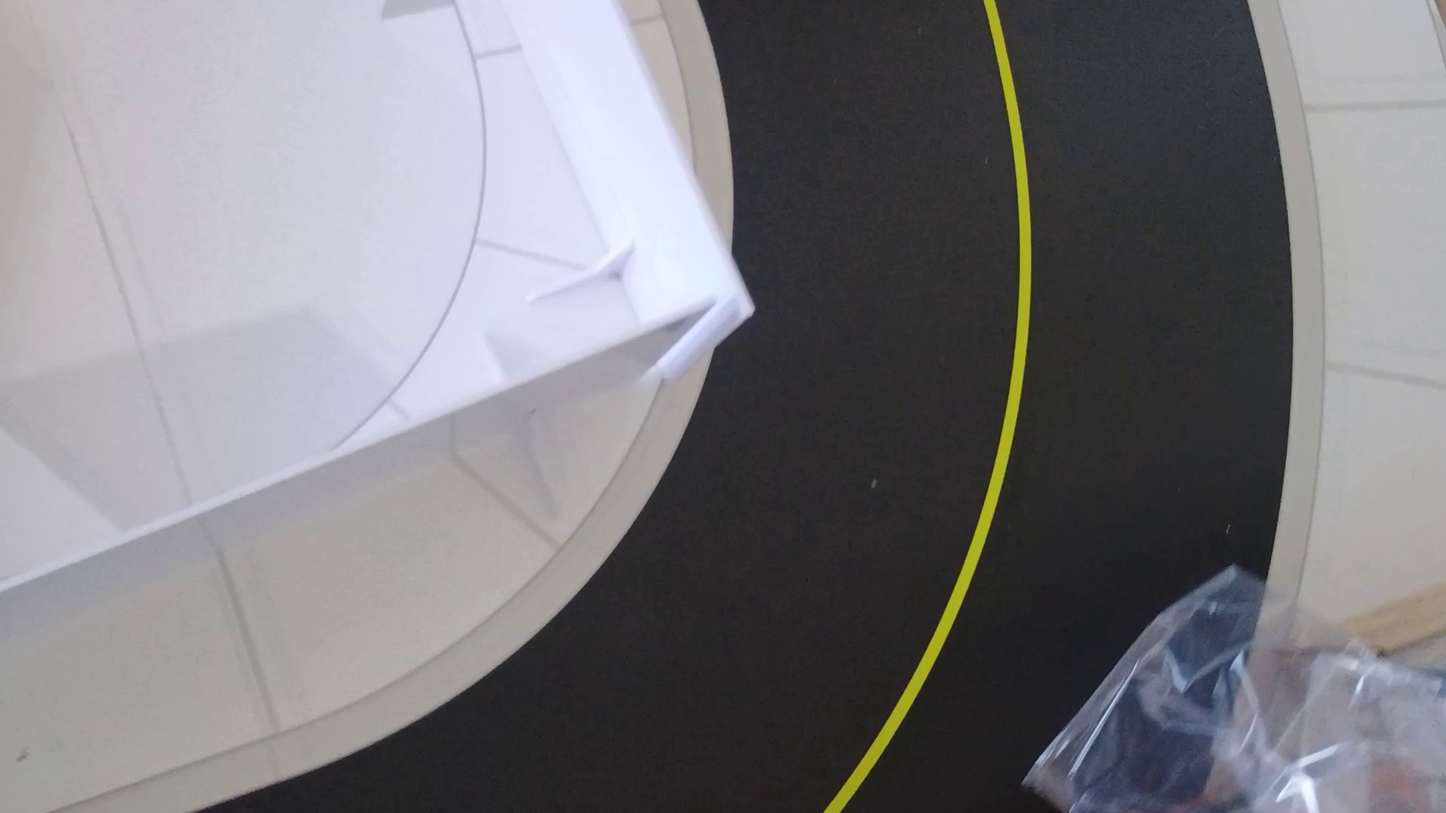Solid: (824, 0, 1032, 812)
Street: (218, 0, 1292, 812)
